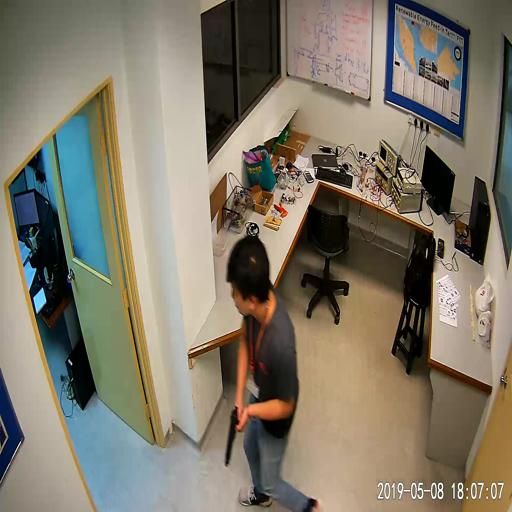pistol: (224, 403, 238, 468)
